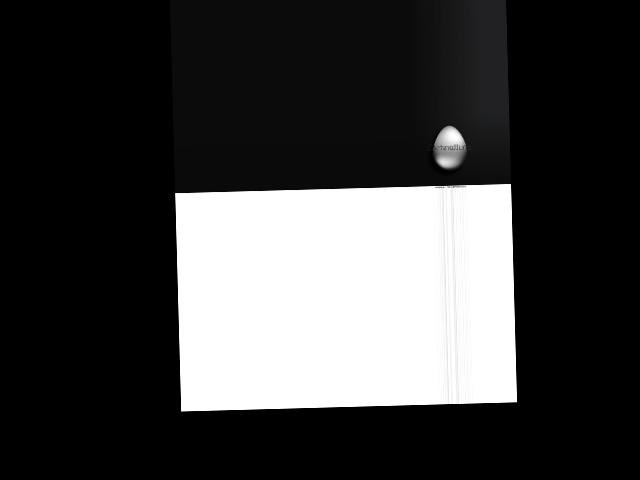egg: (431, 124, 467, 170)
